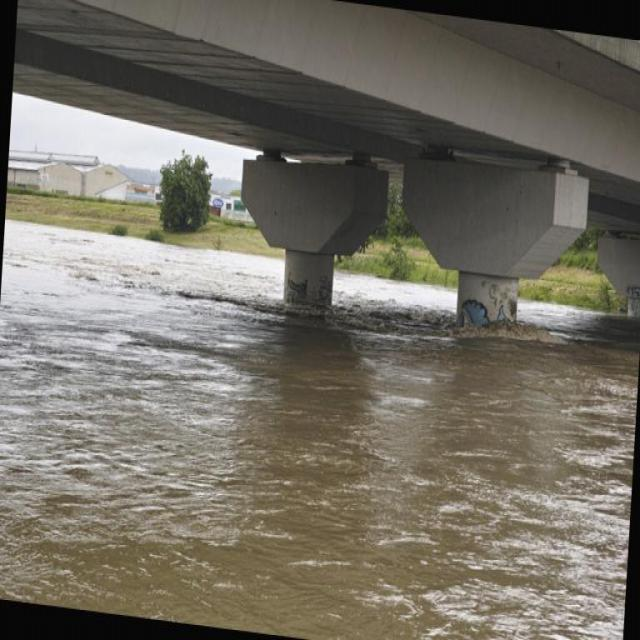flood: (0, 205, 639, 639)
